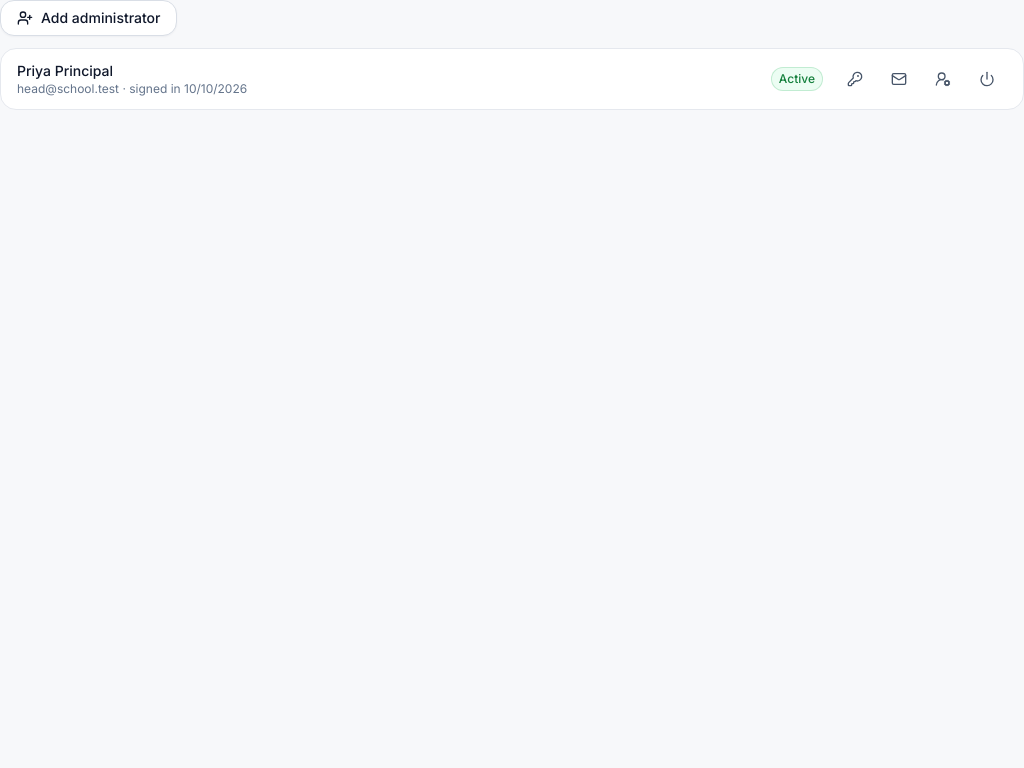
Test: School administrators › shows the server's refusal when the last administrator cannot be deactivated
The width and height of the screenshot is (1024, 768).
Click the button named "Deactivate head@school.test".
click(987, 79)  # box [967,63,1007,95]
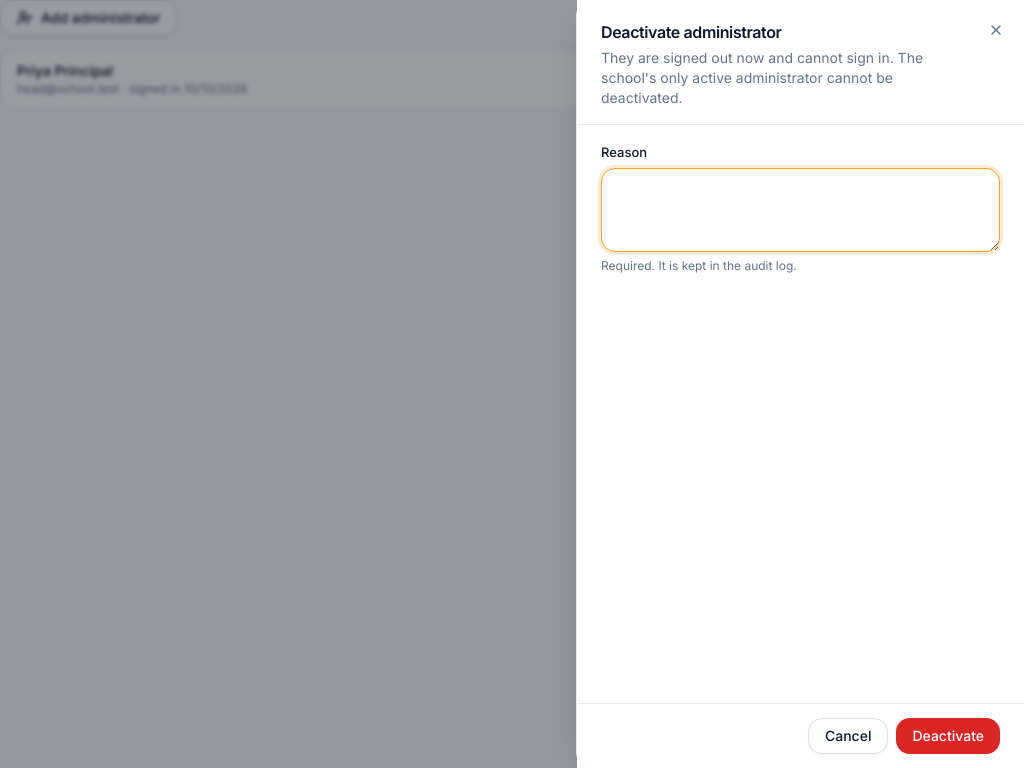
Type "Left" into the text box labelled "Reason".
click(800, 210); type("Left")  # box [601,168,1000,252]
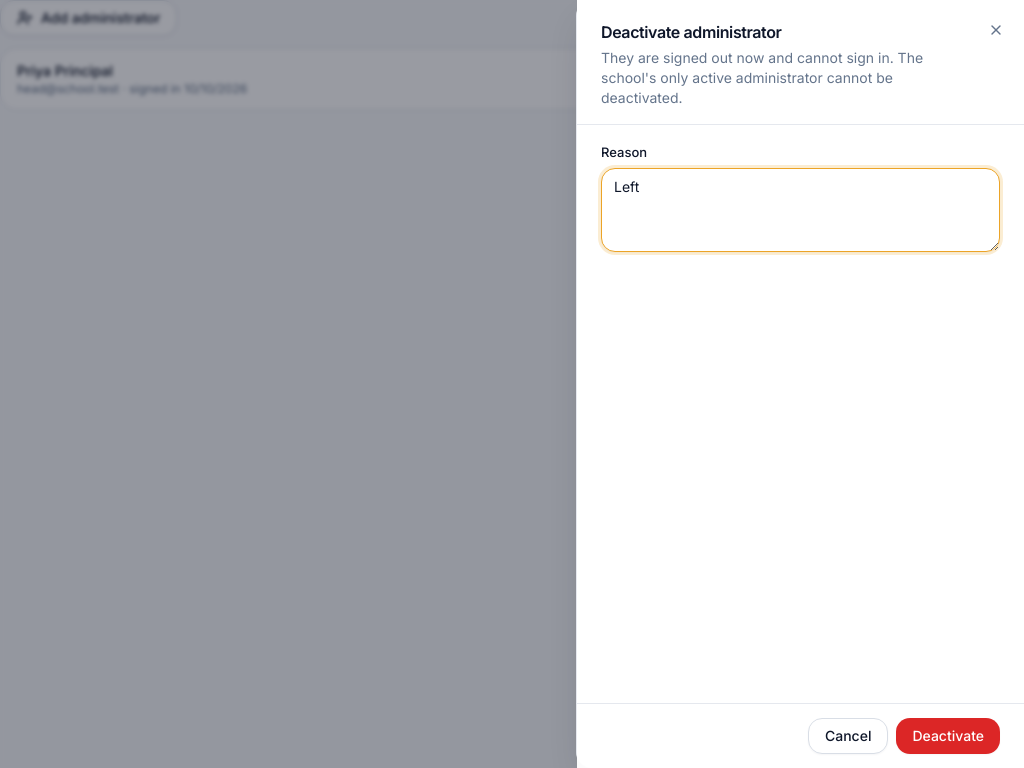
Click the button "Deactivate".
click(948, 736)  # box [896,718,1000,754]
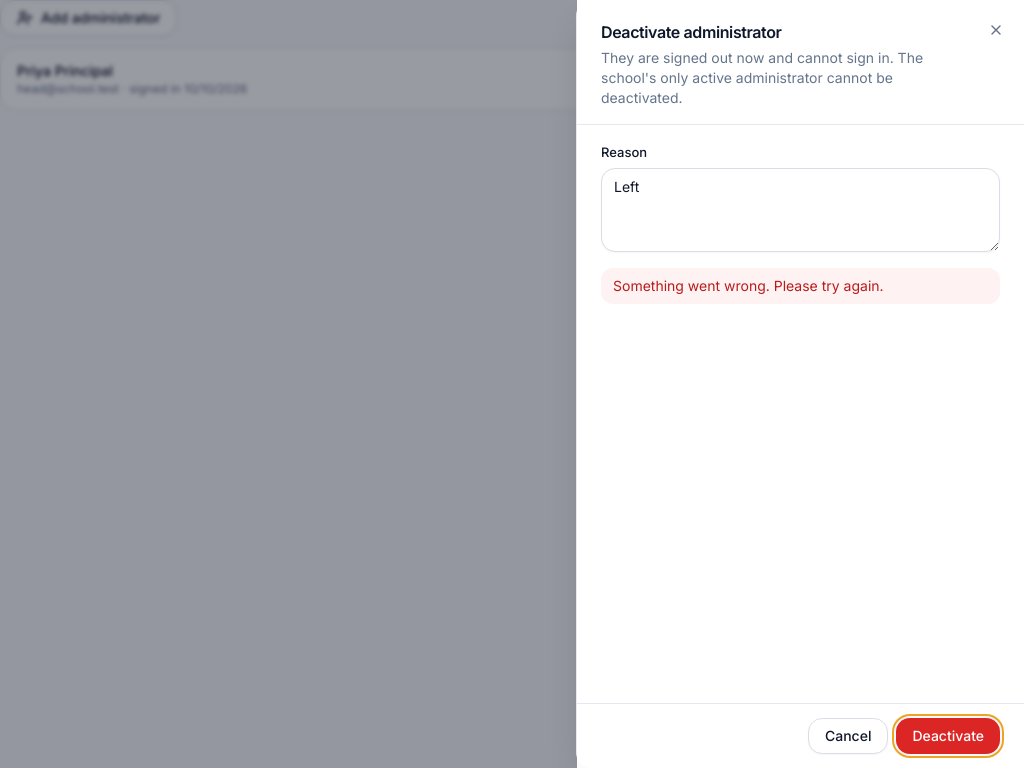
Result: the message "Something went wrong. Please try again." is shown at [601,268,1000,304]
